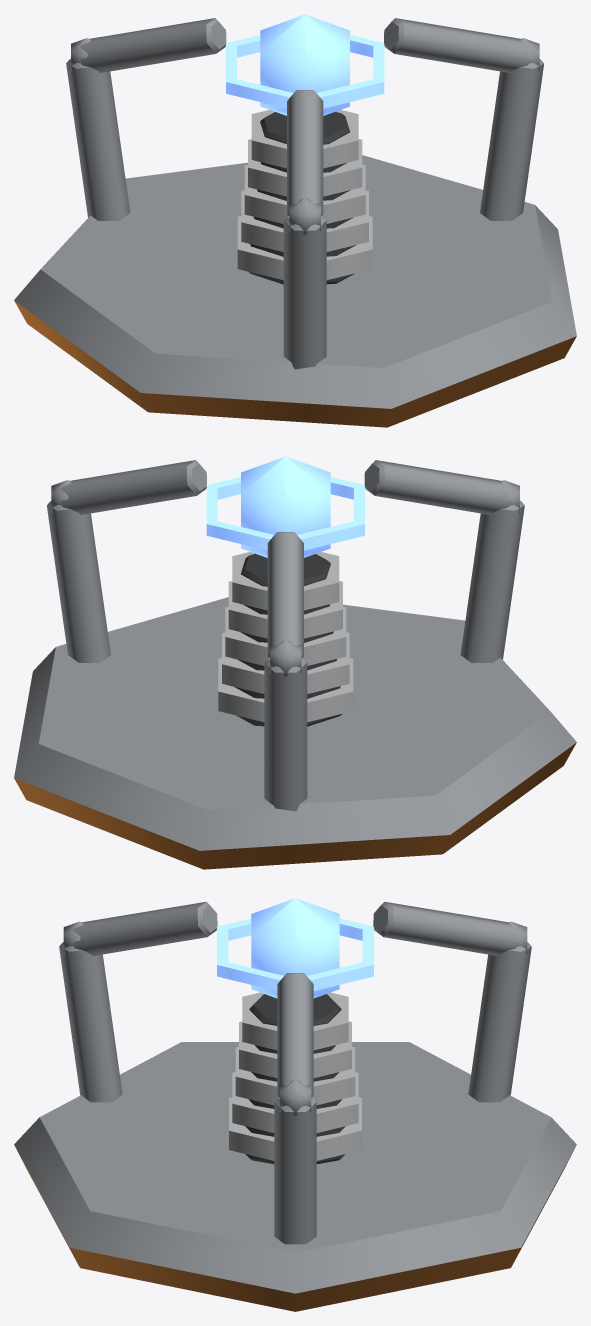
File: R4D_EMPTrap_LOD1.fbx
3 views of the same model, one above another, from view 1: azimuth 30°, elevation 25°; view 2: azimuth 150°, elevation 25°; view 3: azimuth 270°, elevation 25° (orthographic).
Visible parts, largest first — view 1: R4D_EMPTrap_LOD1; view 2: R4D_EMPTrap_LOD1; view 3: R4D_EMPTrap_LOD1.
Boxes of the visible parts, x1,y1,x2,y2 form: R4D_EMPTrap_LOD1: (14, 14, 576, 427); R4D_EMPTrap_LOD1: (14, 456, 576, 869); R4D_EMPTrap_LOD1: (14, 898, 576, 1311).
Size of the model in its own units: 0.4182 by 0.25 by 0.429.
